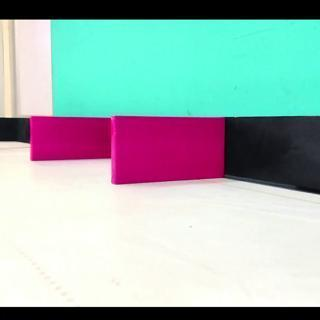xparking: (112, 117, 226, 180), (30, 116, 110, 158)
